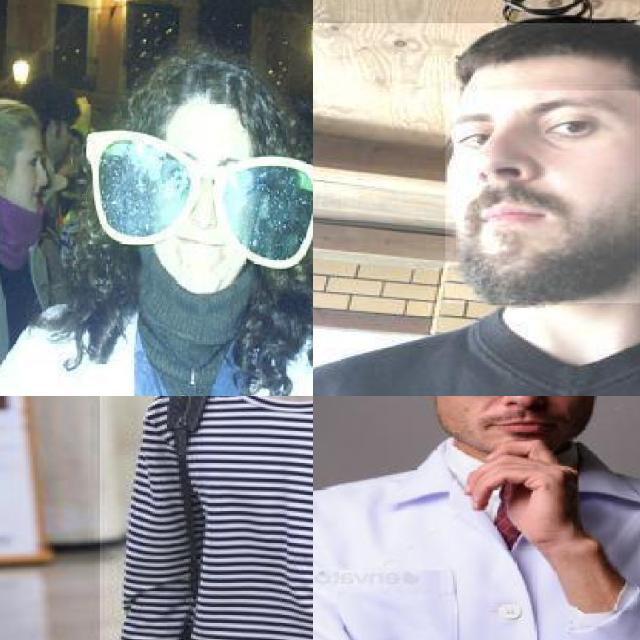face_nomask: (445, 90, 640, 303), (454, 396, 580, 442), (13, 138, 54, 216)
glasses: (75, 134, 313, 265)
hand_noglove: (465, 432, 570, 531)
head_nohelmet: (449, 12, 640, 87), (137, 42, 275, 129), (0, 86, 56, 148)
person: (313, 23, 640, 396), (32, 49, 313, 396), (313, 396, 640, 640), (99, 396, 313, 640), (0, 89, 55, 396)
